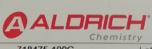SigmaAldrich: (1, 10, 151, 42)
